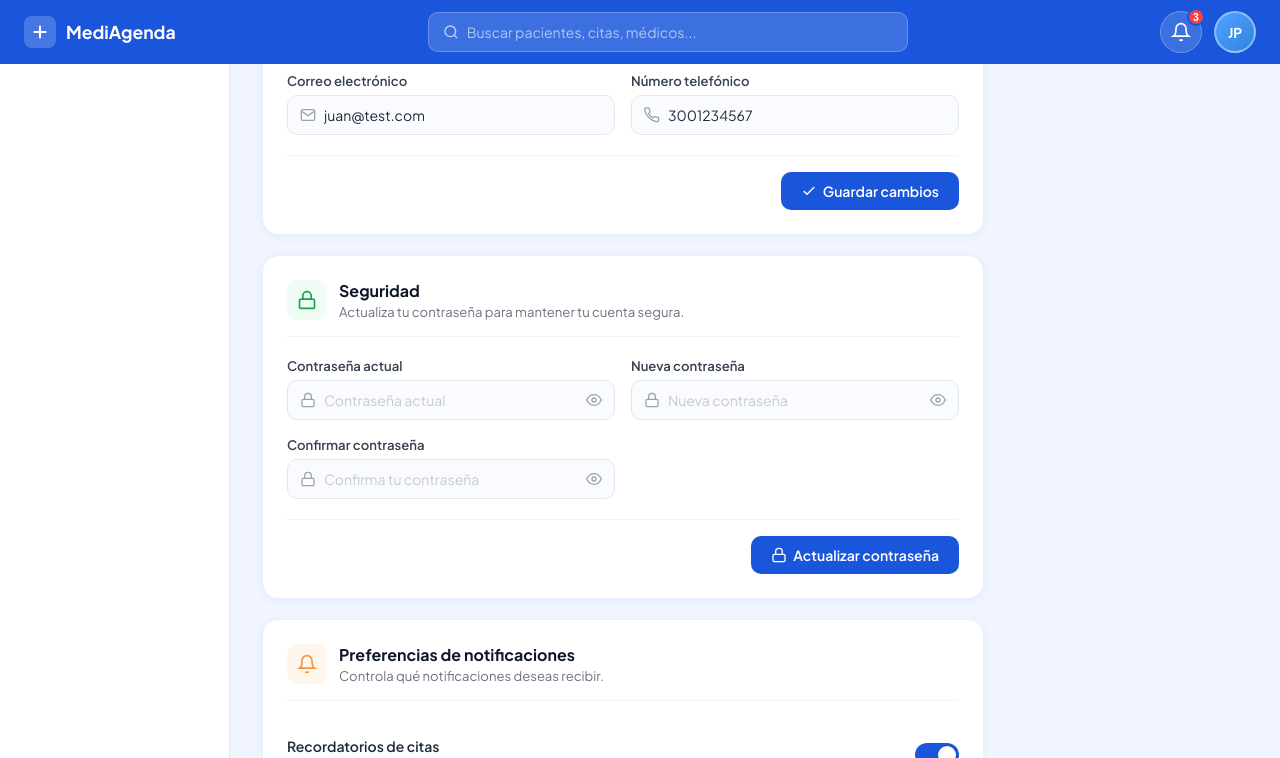
Test: Componente Ajustes - MediAgenda › Cambio de contraseña › debe mostrar alerta de error si las contraseñas no coinciden
(page scrolled)
Type "123456" into the password field with placeholder "Contraseña actual" at (451, 400), box x1=316 y1=381 x2=586 y2=419
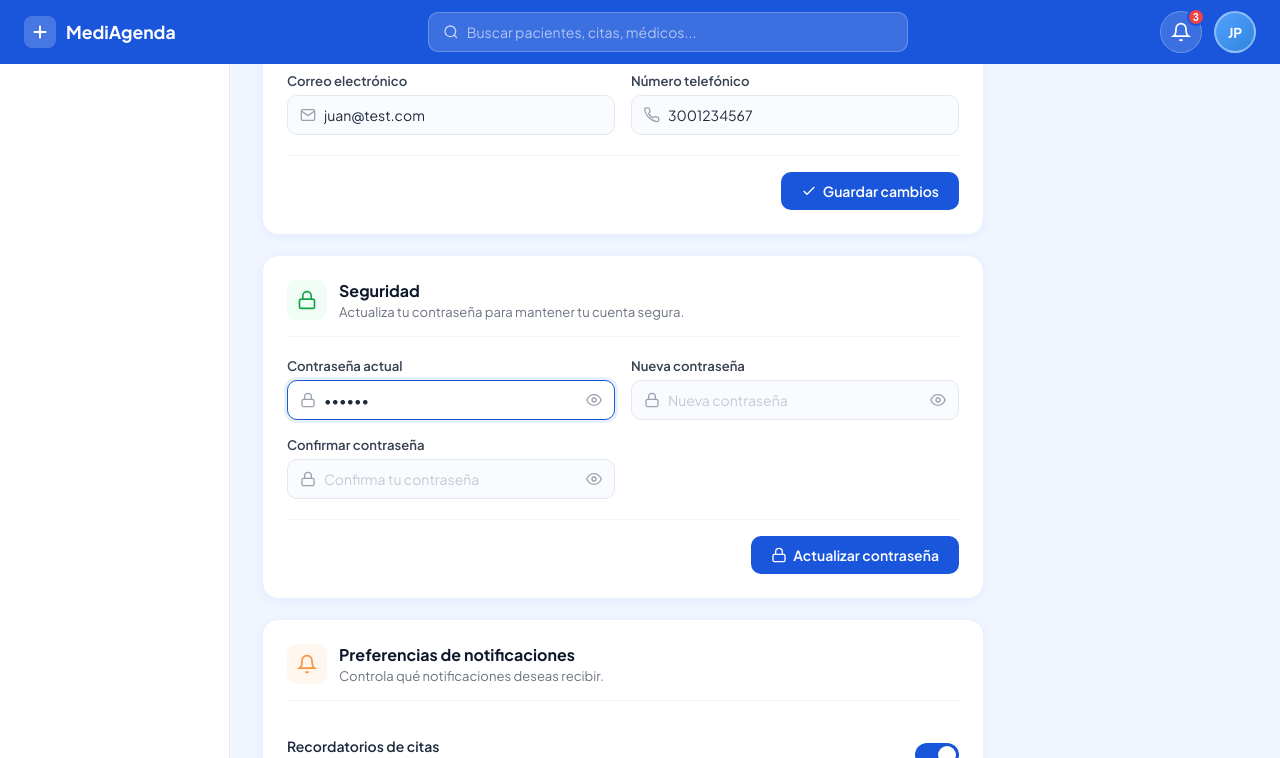
Type "nueva123" into the password field with placeholder "Nueva contraseña" at (795, 400), box x1=660 y1=381 x2=930 y2=419
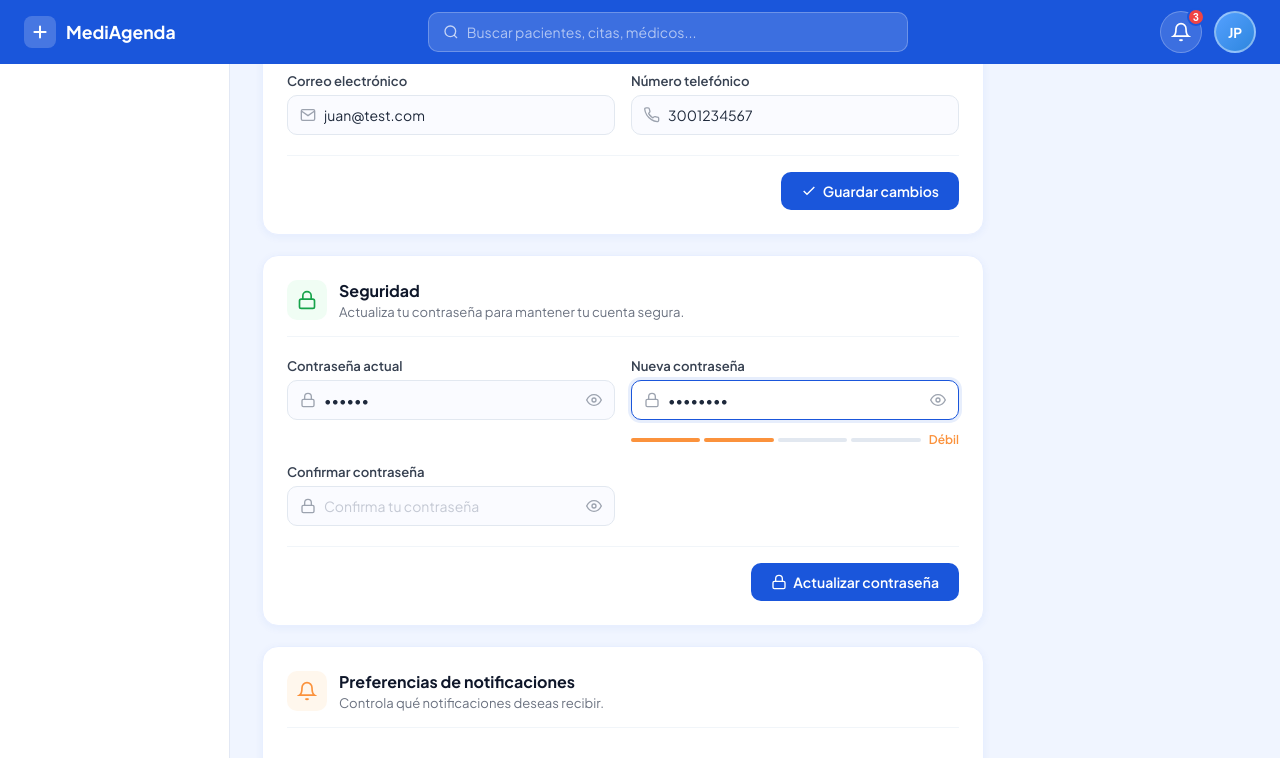
Type "diferente" into the password field with placeholder "Confirma tu contraseña" at (451, 506), box x1=316 y1=487 x2=586 y2=525
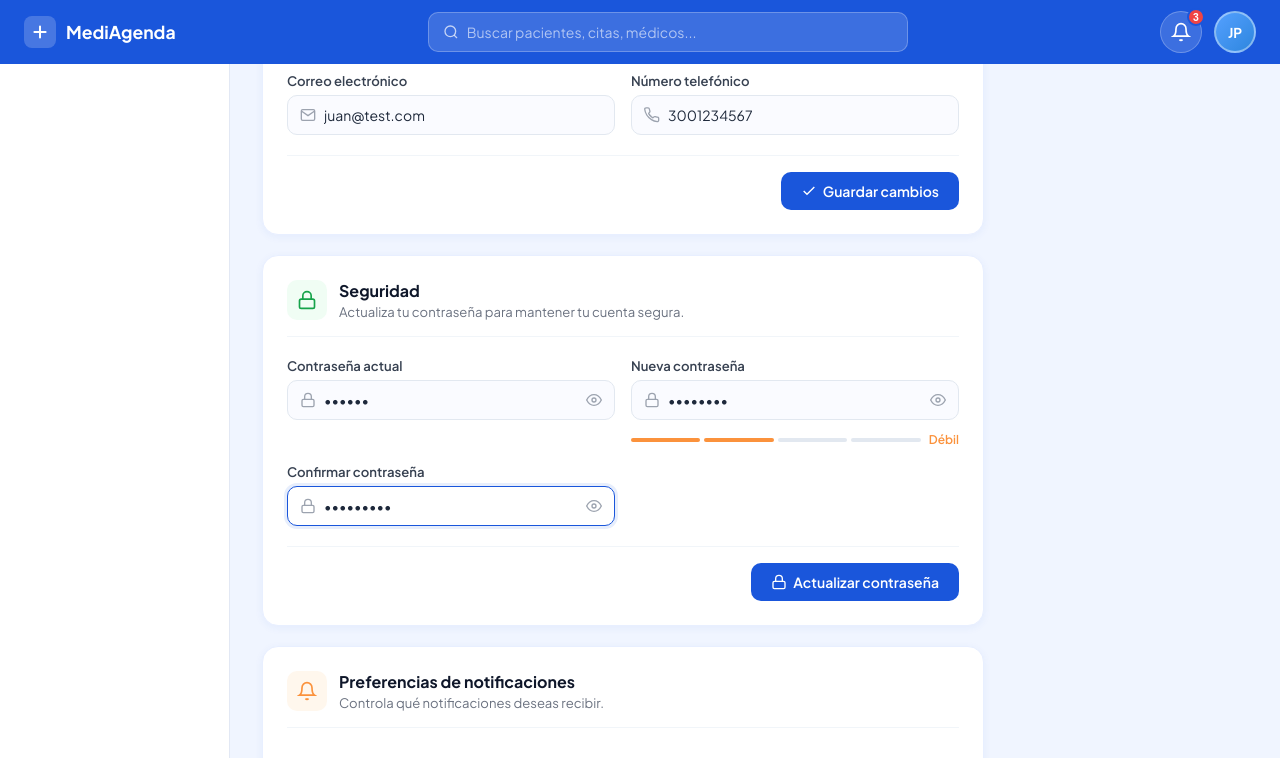
Click the button "Actualizar contraseña" at (855, 582), box x1=751 y1=563 x2=959 y2=601
(page scrolled)
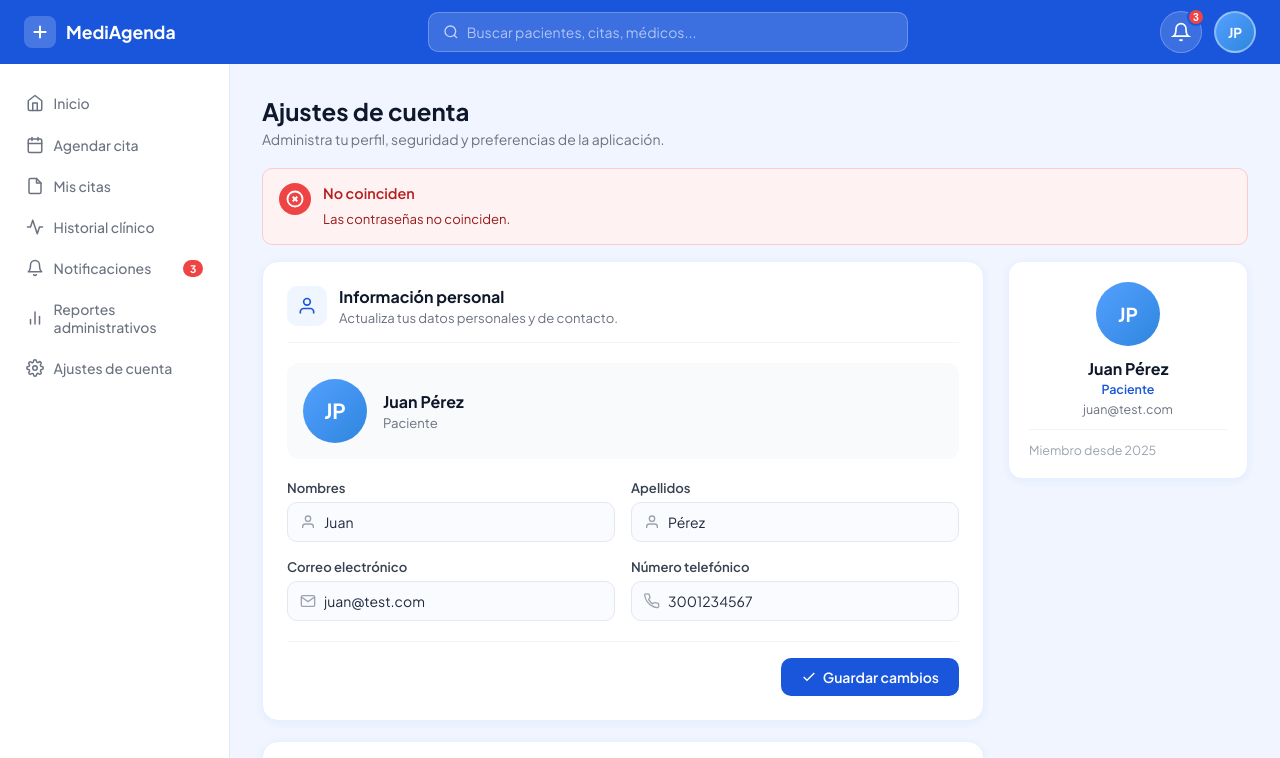
Result: the text "No coinciden" is shown at x1=323 y1=184 x2=415 y2=202
